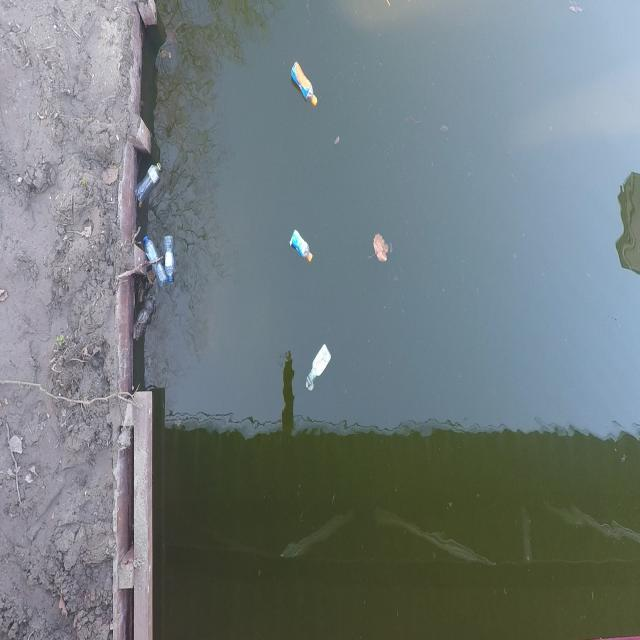Bouteille plastique: (143, 237, 167, 287), (292, 62, 317, 105), (135, 163, 161, 202), (306, 345, 330, 385), (134, 295, 154, 342), (290, 228, 314, 262), (165, 235, 173, 282)
